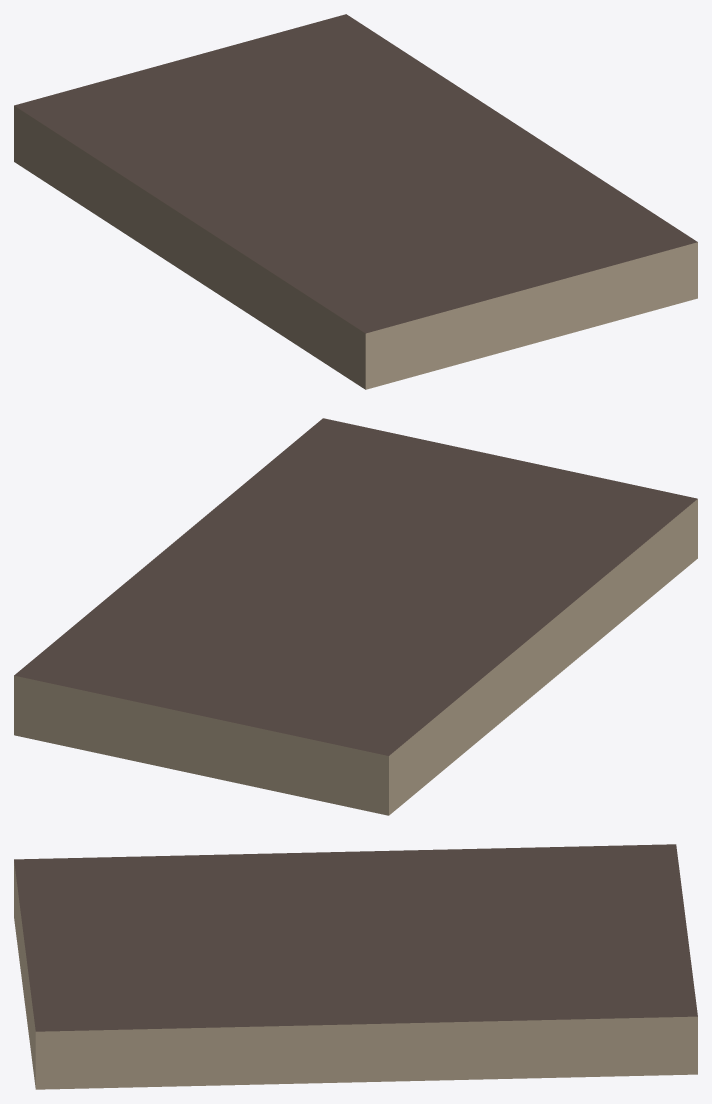
3 renders of one model, top to bottom at view 1: azimuth 30°, elevation 25°; view 2: azimuth 150°, elevation 25°; view 3: azimuth 270°, elevation 25°, orthographic. The views are drawn at different scales.
Parts seen in each view (by area): view 1: HP-w389702055; view 2: HP-w389702055; view 3: HP-w389702055.
Part boxes in pixels (box(x1,y1,x2,y2)): HP-w389702055: box(14, 14, 697, 389); HP-w389702055: box(14, 418, 697, 815); HP-w389702055: box(14, 844, 697, 1089).
Bounding box in the file's own units: 20.79 × 3 × 32.06.
